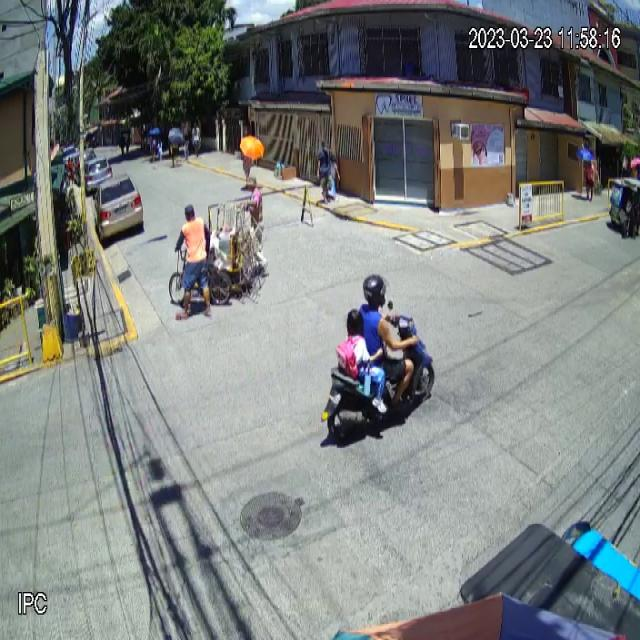Car: (94, 174, 144, 242)
Motorcycle: (320, 300, 436, 444)
